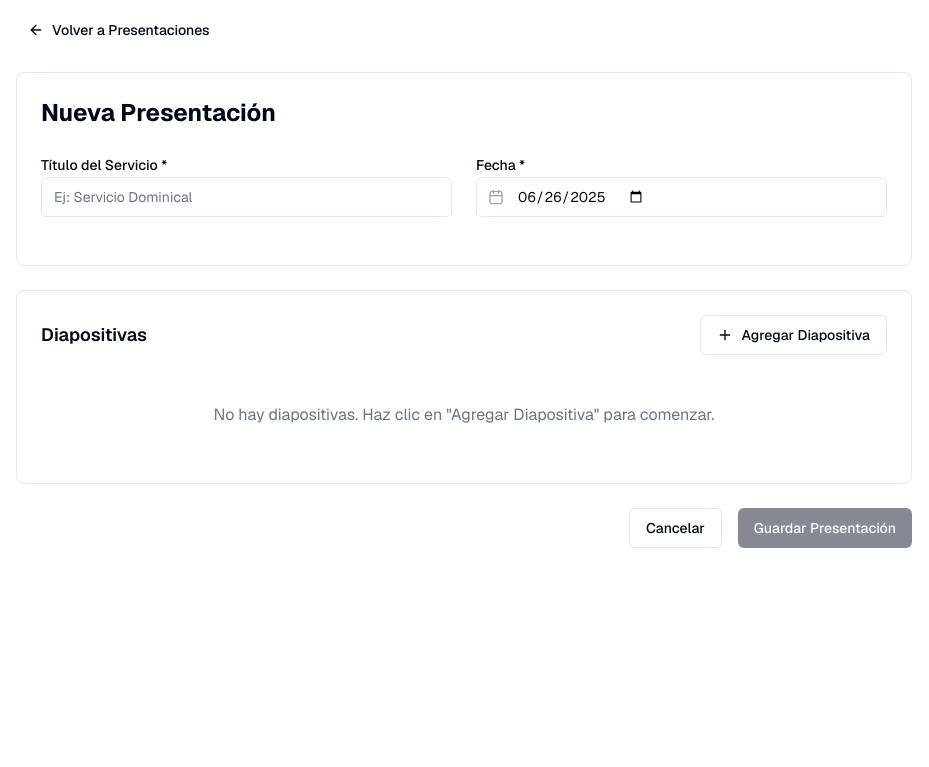
Test: PresentationBuilderPage › adds a slide when selecting a type
This screenshot has width=929, height=767.
Note: Open slide type selector
Click the button "Agregar Diapositiva".
click(794, 335)  # box left=700, top=315, right=887, bottom=355
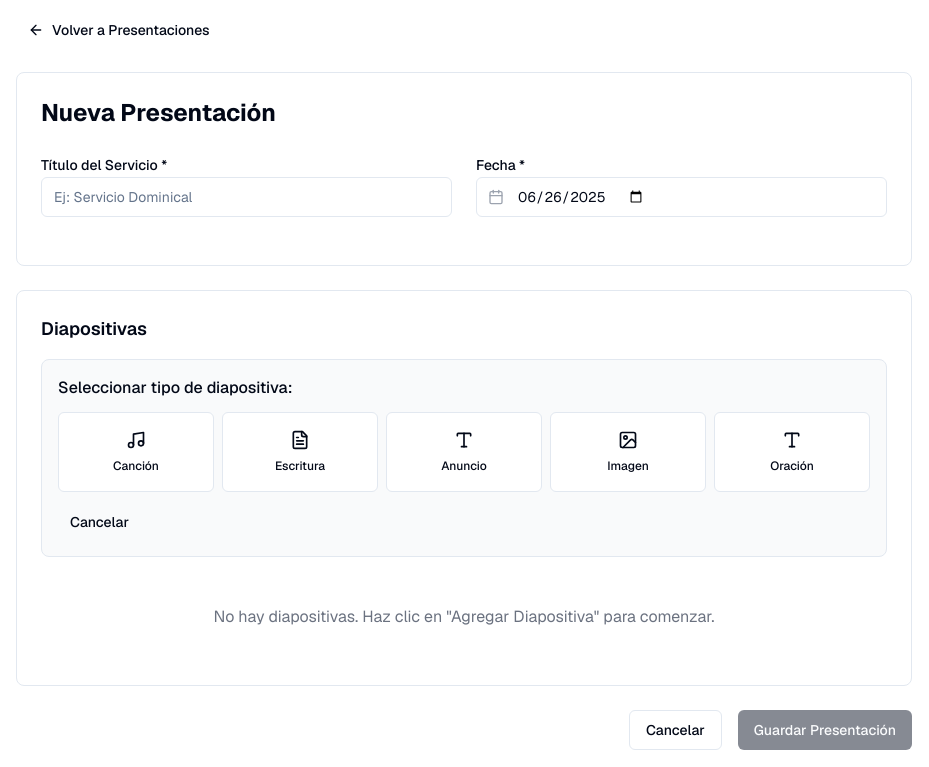
Note: Add an announcement slide
Click the button "Anuncio".
click(464, 452)  # box left=386, top=412, right=542, bottom=492
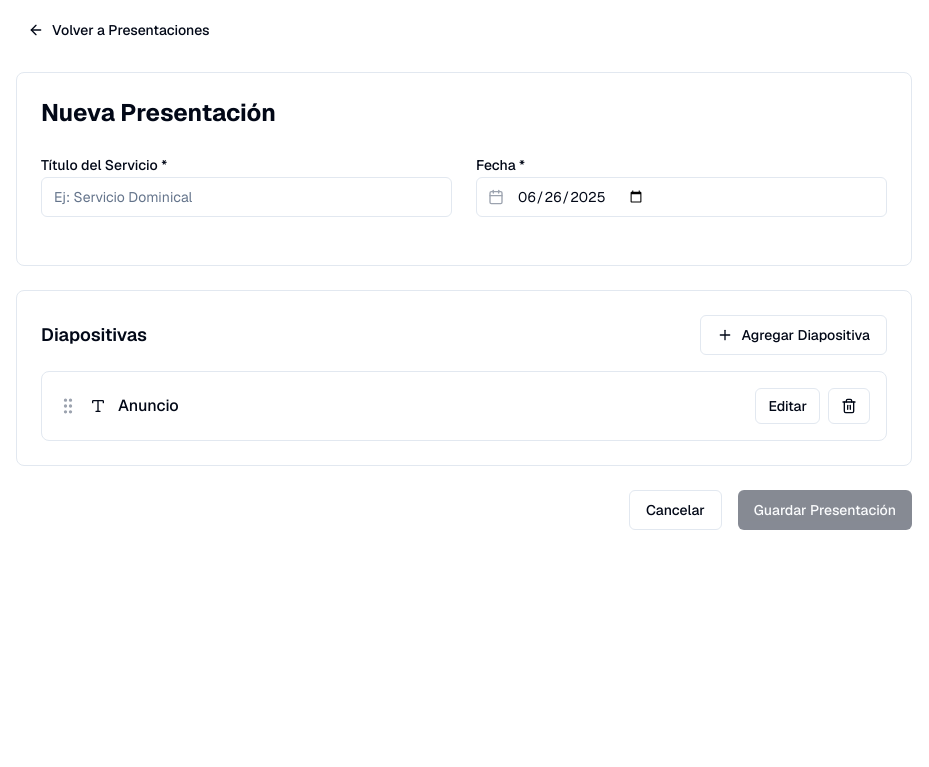
Expected: the text "No hay diapositivas. Haz clic en \"Agregar Diapositiva\" para comenzar." is gone
